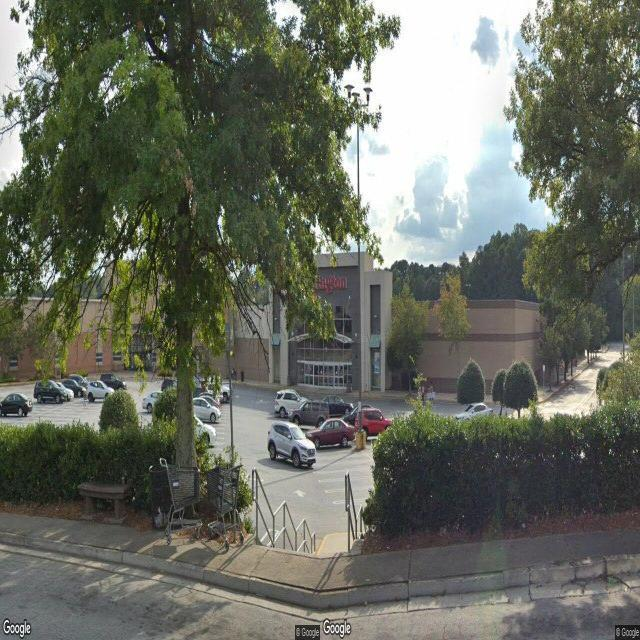seating: (78, 480, 132, 528)
trash_can: (148, 464, 174, 531)
